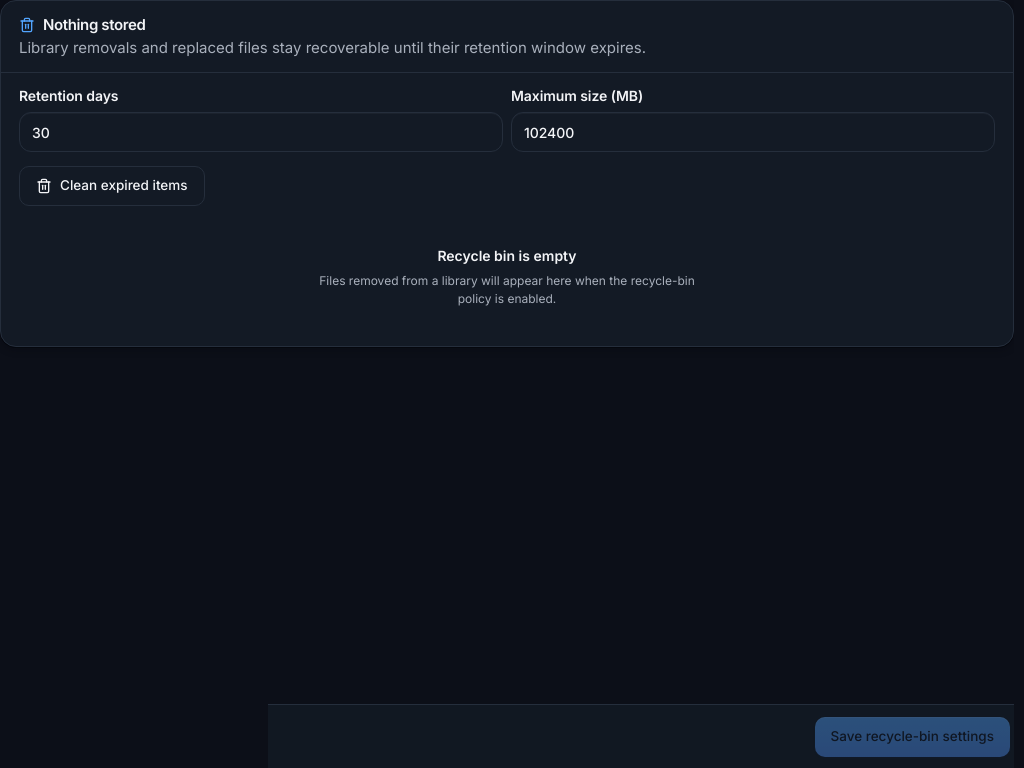
Scenario: Recycle bin: the days kept and emptying what has expired › says plainly that nothing is ready and offers only Close when the preview is empty
Click the button "Clean expired items".
click(112, 186)  # box [19,166,204,206]
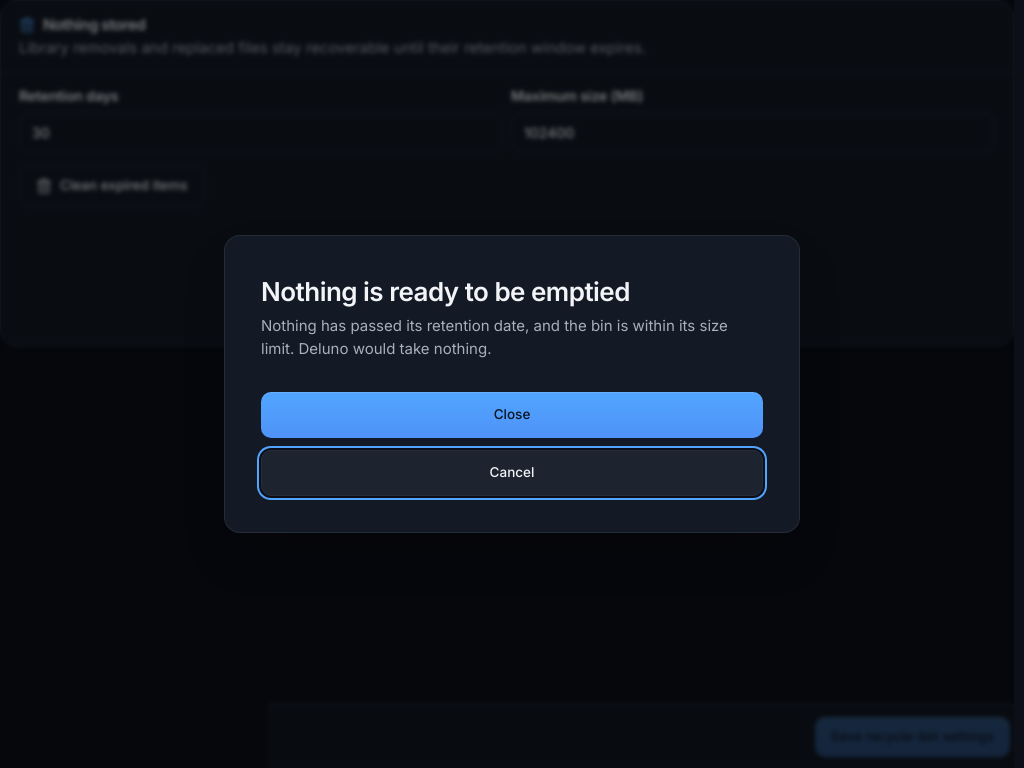
Expected: the heading "Nothing is ready to be emptied" is shown, [261,276,630,307]
Expected: the button "Close" is shown, [261,392,763,438]
